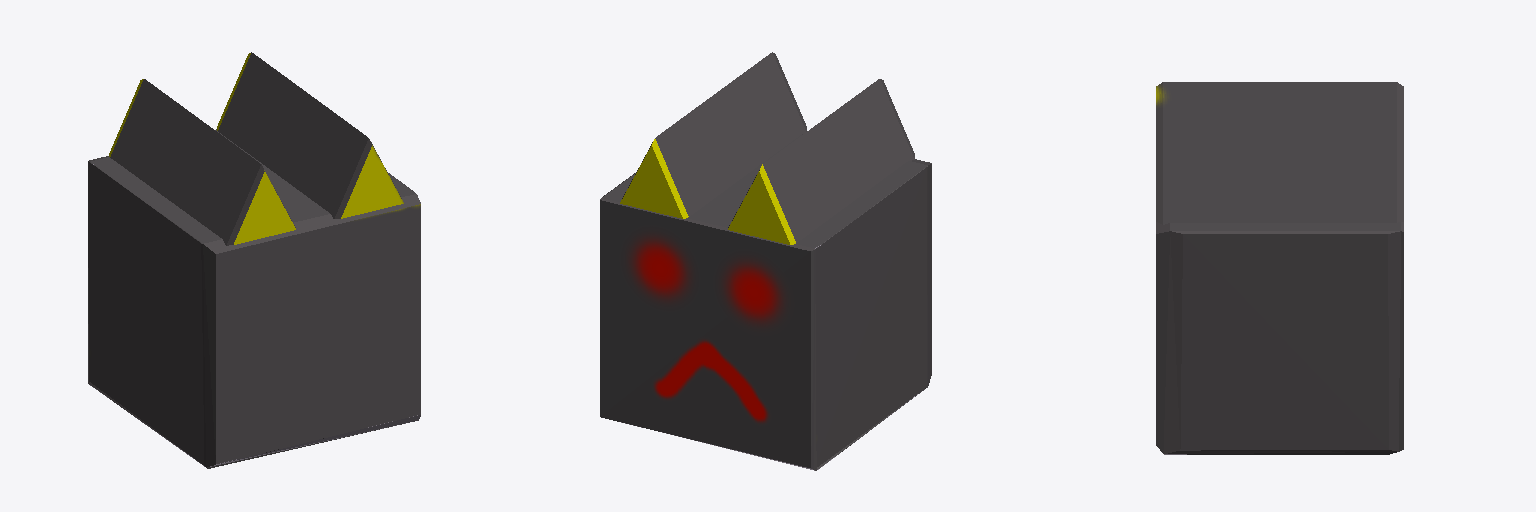
The picture shows the model from 3 angles: view 1: azimuth 30°, elevation 25°; view 2: azimuth 150°, elevation 25°; view 3: azimuth 270°, elevation 25°; orthographic projection.
Visible parts, largest first — view 1: 立方体; view 2: 立方体; view 3: 立方体.
Part boxes in pixels (bbox=[...]): 立方体: bbox=[88, 52, 420, 468]; 立方体: bbox=[600, 52, 931, 470]; 立方体: bbox=[1156, 82, 1403, 454].
Size of the model in its own units: 2.01 by 2.62 by 2.
Materials: 1 (1 with a texture image).